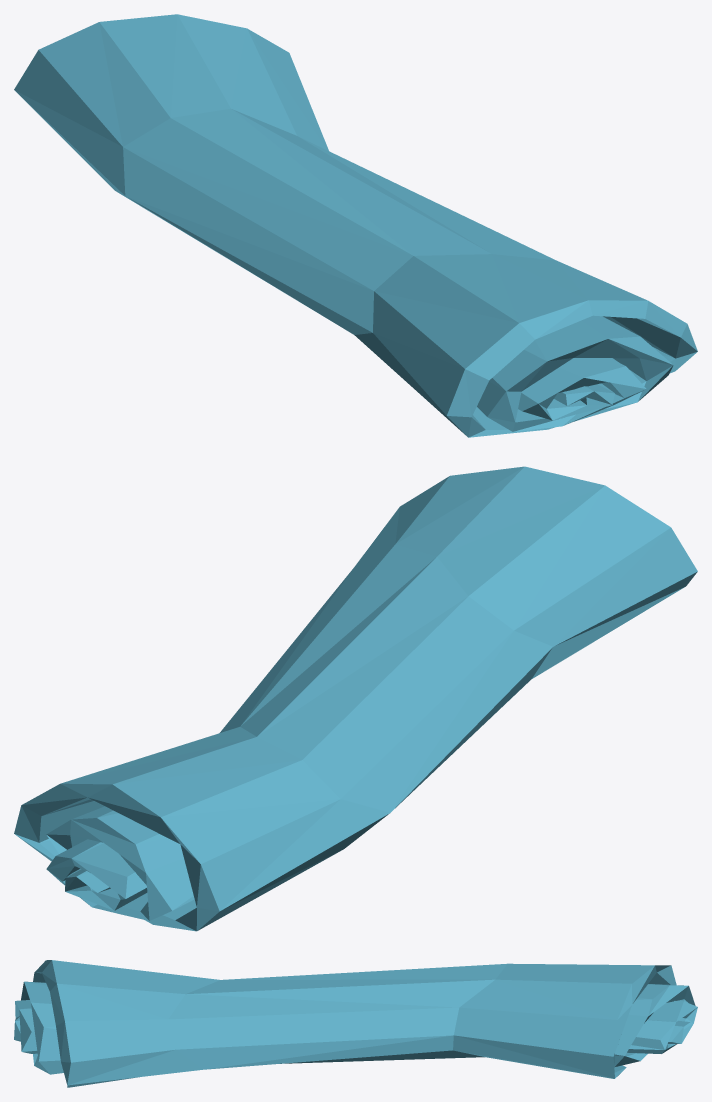
Rendered from SFI_Fabric_006.fbx.
The picture shows the model from 3 angles, top to bottom: view 1: azimuth 30°, elevation 25°; view 2: azimuth 150°, elevation 25°; view 3: azimuth 270°, elevation 25°; orthographic projection. The views are drawn at different scales.
Parts seen in each view (by area): view 1: SFI_Fabric_006; view 2: SFI_Fabric_006; view 3: SFI_Fabric_006.
Part boxes in pixels (bbox=[...]): SFI_Fabric_006: bbox=[14, 14, 697, 437]; SFI_Fabric_006: bbox=[14, 466, 697, 931]; SFI_Fabric_006: bbox=[14, 960, 697, 1087].
Size of the model in its own units: 36.16 by 13.72 by 105.
